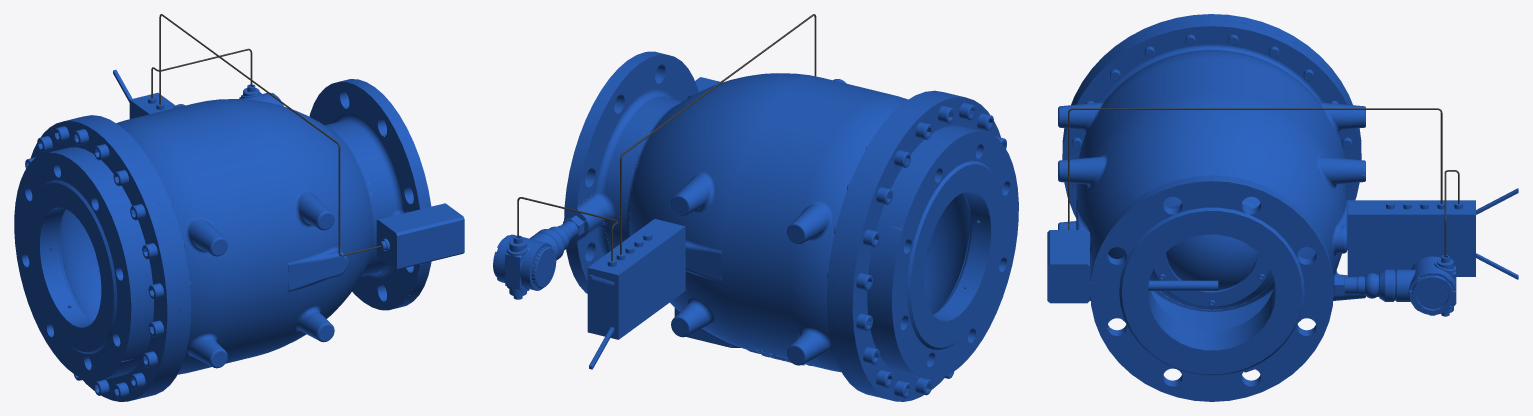
File: 止回阀.glb
3 views of the same model, side by side, from view 1: azimuth 30°, elevation 25°; view 2: azimuth 150°, elevation 25°; view 3: azimuth 270°, elevation 25° (orthographic). The views are drawn at different scales.
Parts seen in each view (by area): view 1: 上水回水止回阀.SLDPRT; view 2: 上水回水止回阀.SLDPRT; view 3: 上水回水止回阀.SLDPRT.
Part boxes in pixels (x1,y1,x2,y2): 上水回水止回阀.SLDPRT: (14,14,464,401); 上水回水止回阀.SLDPRT: (493,14,1018,401); 上水回水止回阀.SLDPRT: (1047,14,1518,401).
Bounding box in the file's own units: 0.4425 × 0.35 × 0.551.
